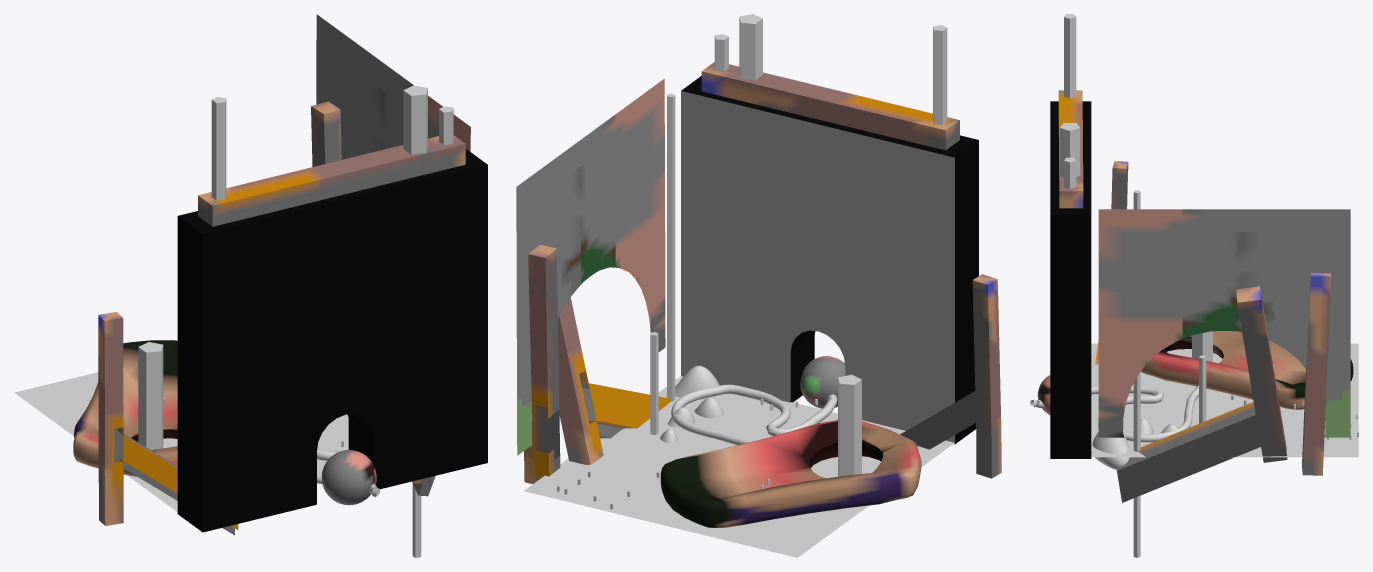
The model's file is Room2.fbx.
3 renders of one model, left to right at view 1: azimuth 30°, elevation 25°; view 2: azimuth 150°, elevation 25°; view 3: azimuth 270°, elevation 25°, orthographic. The views are drawn at different scales.
Visible parts, largest first — view 1: Room2_RightWall, Room2_LeftWall, pCube20, pCube34, pCube19, Floor, pCylinder5, pSphere6, pCube33, pCylinder2, pCylinder4, pCylinder7; view 2: Room2_RightWall, Room2_LeftWall, Floor, pCube19, pCube20, pCube34, pCube21, pCube33, pCylinder1, pCylinder7, pCylinder5, pSphere6 (+4 smaller); view 3: Room2_LeftWall, Room2_RightWall, pCube21, Floor, pCube19, pCube33, pCube20, pCylinder1, pCylinder7, pCylinder4, pCylinder2, pCube34 (+3 smaller).
Boxes of the visible parts, x1=… form: Room2_RightWall: x1=177, y1=149, x2=487, y2=532; Room2_LeftWall: x1=316, y1=14, x2=470, y2=159; pCube20: x1=198, y1=135, x2=465, y2=226; pCube34: x1=98, y1=312, x2=238, y2=535; pCube19: x1=73, y1=340, x2=177, y2=476; Floor: x1=14, y1=372, x2=348, y2=511; pCylinder5: x1=138, y1=342, x2=163, y2=449; pSphere6: x1=321, y1=450, x2=376, y2=505; pCube33: x1=311, y1=101, x2=341, y2=166; pCylinder2: x1=403, y1=85, x2=427, y2=154; pCylinder4: x1=211, y1=97, x2=226, y2=200; pCylinder7: x1=412, y1=484, x2=421, y2=557; Room2_RightWall: x1=681, y1=76, x2=978, y2=444; Room2_LeftWall: x1=516, y1=78, x2=665, y2=455; Floor: x1=524, y1=376, x2=954, y2=557; pCube19: x1=660, y1=420, x2=921, y2=527; pCube20: x1=701, y1=62, x2=959, y2=150; pCube34: x1=900, y1=274, x2=1001, y2=478; pCube21: x1=558, y1=297, x2=671, y2=464; pCube33: x1=524, y1=244, x2=560, y2=483; pCylinder1: x1=671, y1=384, x2=837, y2=445; pCylinder7: x1=667, y1=93, x2=675, y2=401; pCylinder5: x1=838, y1=374, x2=861, y2=476; pSphere6: x1=800, y1=356, x2=845, y2=408; Room2_LeftWall: x1=1098, y1=209, x2=1350, y2=437; Room2_RightWall: x1=1050, y1=101, x2=1091, y2=458; pCube21: x1=1116, y1=286, x2=1287, y2=502; Floor: x1=1091, y1=343, x2=1358, y2=457; pCube19: x1=1140, y1=331, x2=1353, y2=409; pCube33: x1=1302, y1=272, x2=1331, y2=475; pCube20: x1=1058, y1=90, x2=1083, y2=208; pCylinder1: x1=1030, y1=384, x2=1198, y2=442; pCylinder7: x1=1133, y1=190, x2=1140, y2=557; pCylinder4: x1=1064, y1=14, x2=1076, y2=98; pCylinder2: x1=1060, y1=123, x2=1080, y2=176; pCube34: x1=1095, y1=161, x2=1128, y2=364.
Bounding box in the file's own units: 14.42 × 18.25 × 12.23.
